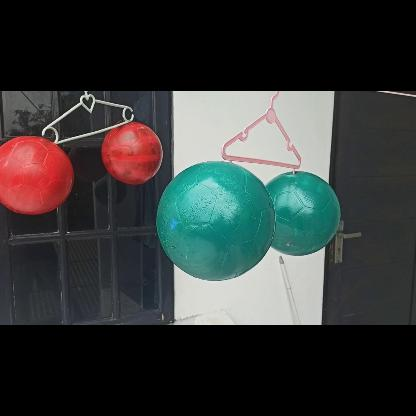red_ball: (0, 134, 73, 216), (100, 119, 164, 183)
